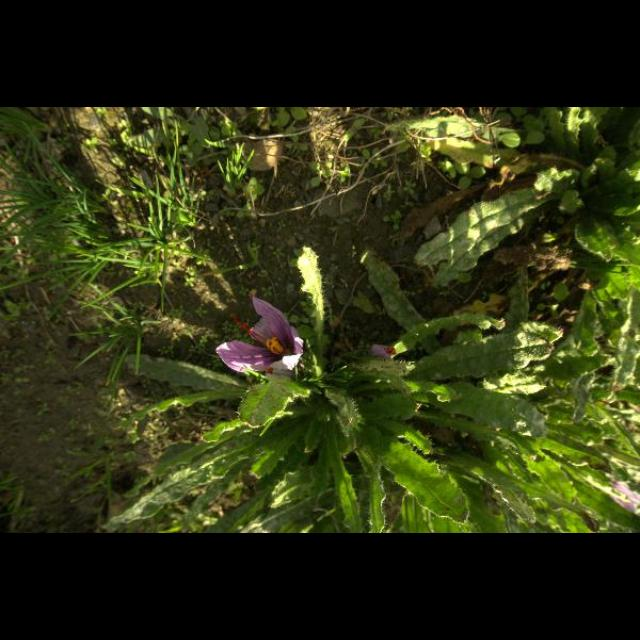flower: (216, 297, 302, 375), (372, 344, 398, 360)
